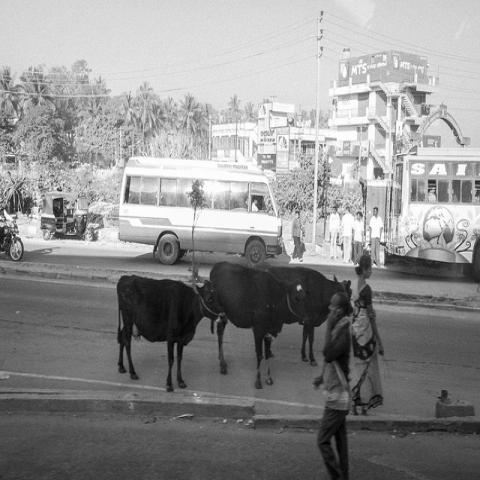bus: (106, 155, 284, 266), (388, 145, 479, 283)
motorcycle: (0, 210, 25, 263)
